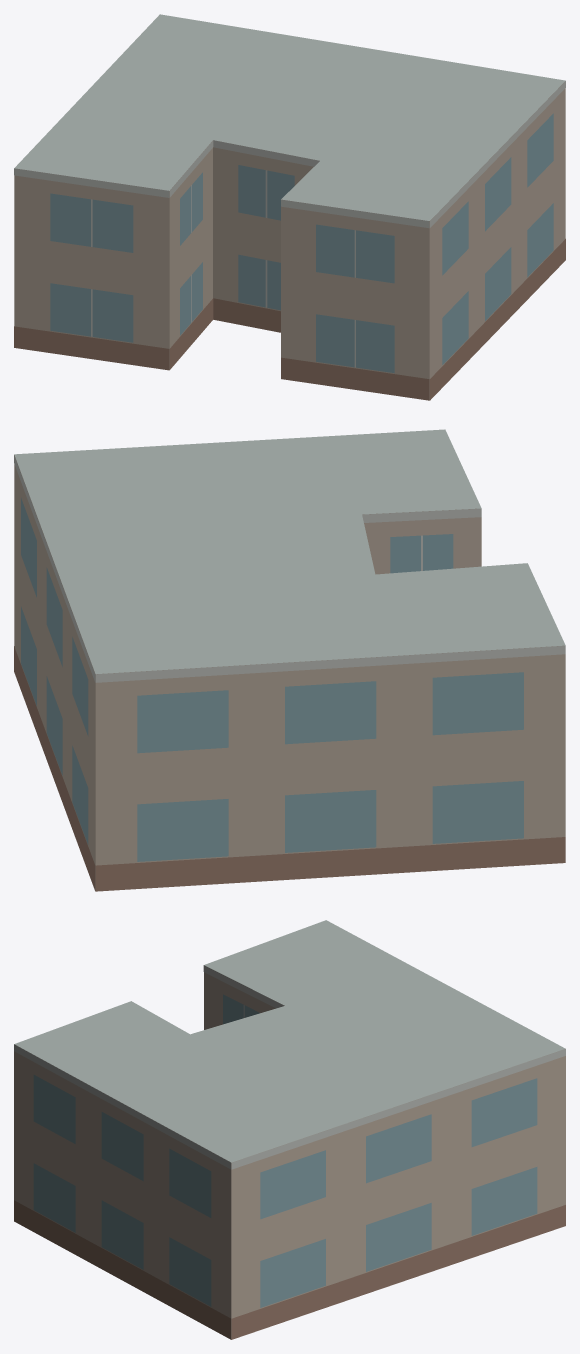
Rendered from survey-upis-32764772.glb.
3 renders of one model, top to bottom at view 1: azimuth 30°, elevation 25°; view 2: azimuth 150°, elevation 25°; view 3: azimuth 270°, elevation 25°, orthographic. The views are drawn at different scales.
Parts seen in each view (by area): view 1: survey-upis-32764772.tmp; view 2: survey-upis-32764772.tmp; view 3: survey-upis-32764772.tmp.
Part boxes in pixels (x1,y1,x2,y2): survey-upis-32764772.tmp: [14, 14, 565, 400]; survey-upis-32764772.tmp: [14, 429, 565, 891]; survey-upis-32764772.tmp: [14, 920, 565, 1339].
Bounding box in the file's own units: 17.92 × 6.1 × 17.22.
